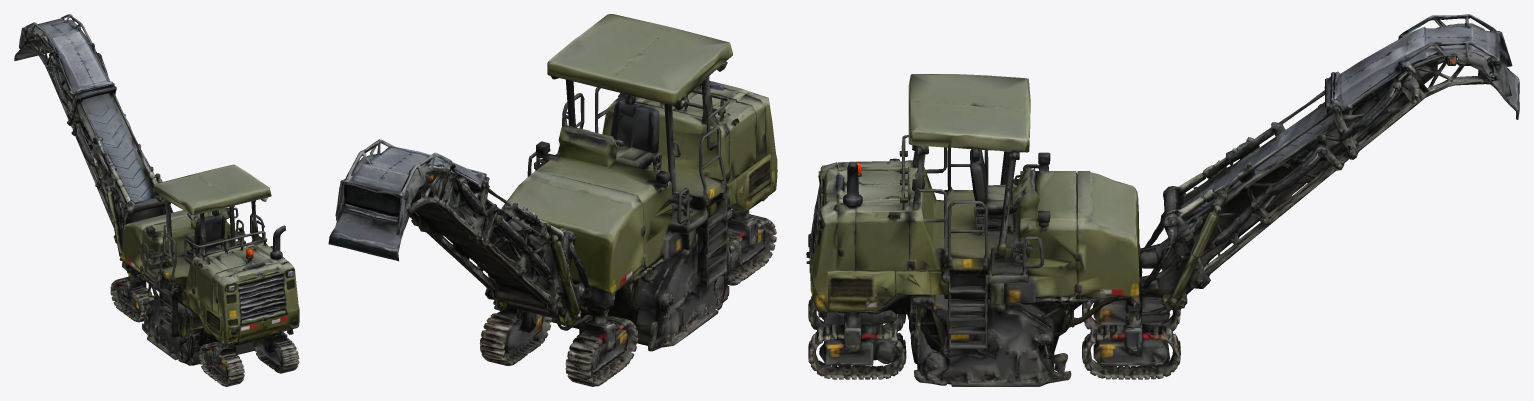
The model's file is fresadora_lod0.glb.
3 renders of one model, left to right at view 1: azimuth 30°, elevation 25°; view 2: azimuth 150°, elevation 25°; view 3: azimuth 270°, elevation 25°, orthographic. The views are drawn at different scales.
Visible parts, largest first — view 1: tripo_node_069fbbce-5576-4601-ac02-64eb2a6f24a1; view 2: tripo_node_069fbbce-5576-4601-ac02-64eb2a6f24a1; view 3: tripo_node_069fbbce-5576-4601-ac02-64eb2a6f24a1.
Part boxes in pixels (x1,y1,x2,y2): tripo_node_069fbbce-5576-4601-ac02-64eb2a6f24a1: (14, 14, 299, 386); tripo_node_069fbbce-5576-4601-ac02-64eb2a6f24a1: (328, 14, 777, 386); tripo_node_069fbbce-5576-4601-ac02-64eb2a6f24a1: (806, 14, 1519, 386).
Size of the model in its own units: 3.09 by 6.32 by 12.5.
Materials: 1 (1 with a texture image).
